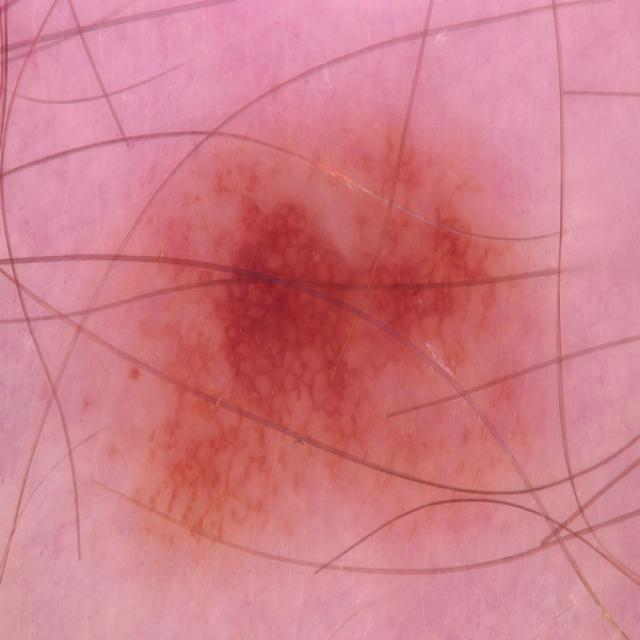NV: (102, 108, 544, 565)
